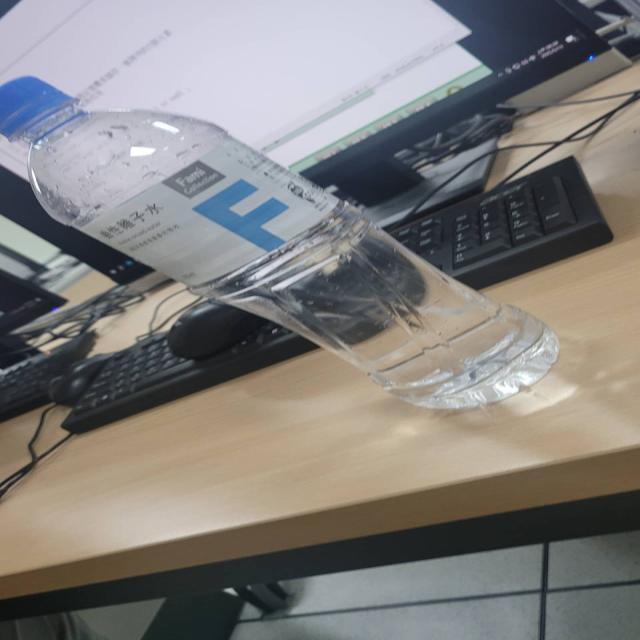PET bottle: (0, 72, 576, 420)
